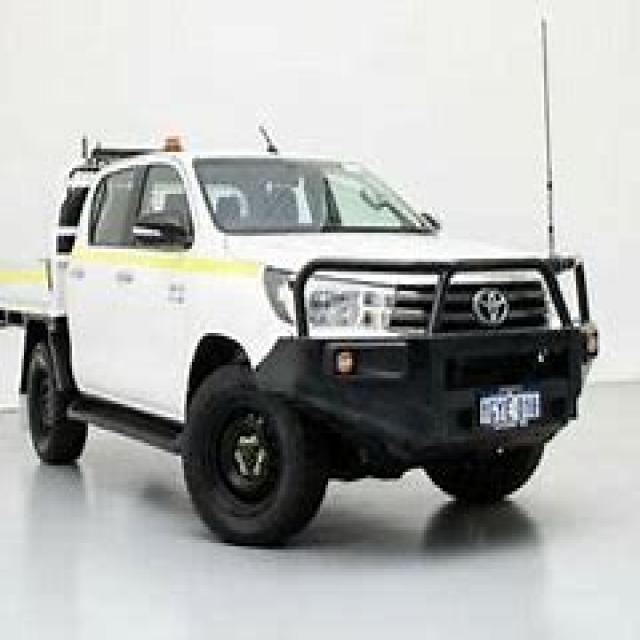light_vehicle: (3, 129, 600, 553)
